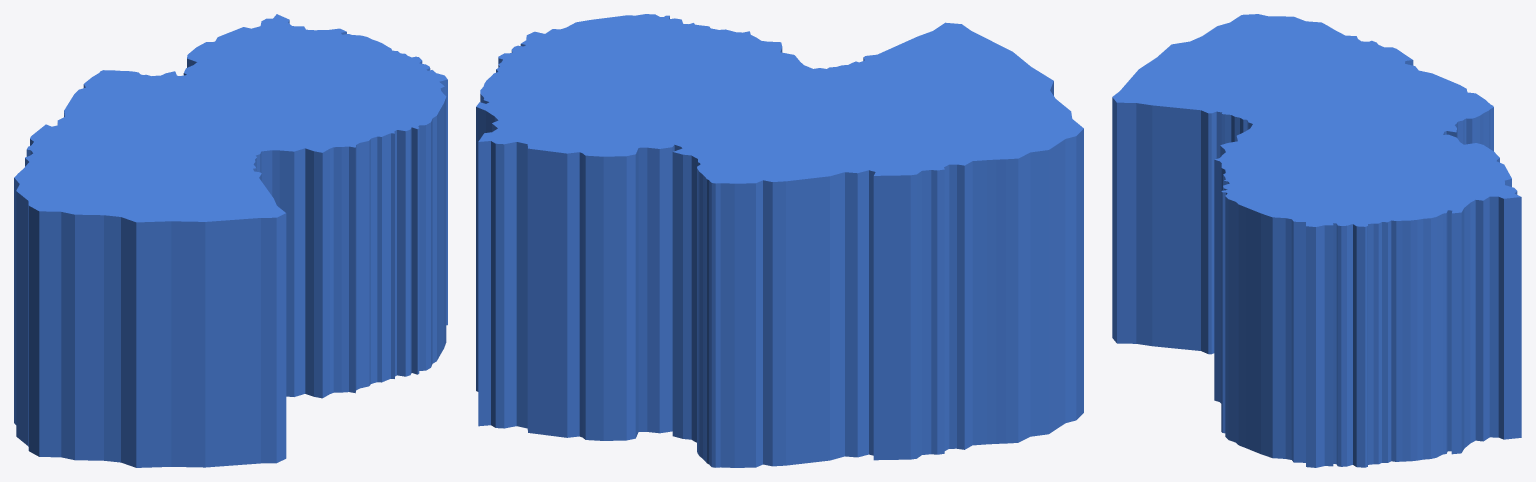
The model's file is FrozenLake01.dae.
The picture shows the model from 3 angles, left to right: view 1: azimuth 30°, elevation 25°; view 2: azimuth 150°, elevation 25°; view 3: azimuth 270°, elevation 25°; orthographic projection. The views are drawn at different scales.
Visible parts, largest first — view 1: Object_001; view 2: Object_001; view 3: Object_001.
Boxes of the visible parts, x1,y1,x2,y2 form: Object_001: [14, 14, 447, 467]; Object_001: [476, 14, 1083, 467]; Object_001: [1112, 14, 1521, 467].
Size of the model in its own units: 8.11 by 6.59 by 4.27.
